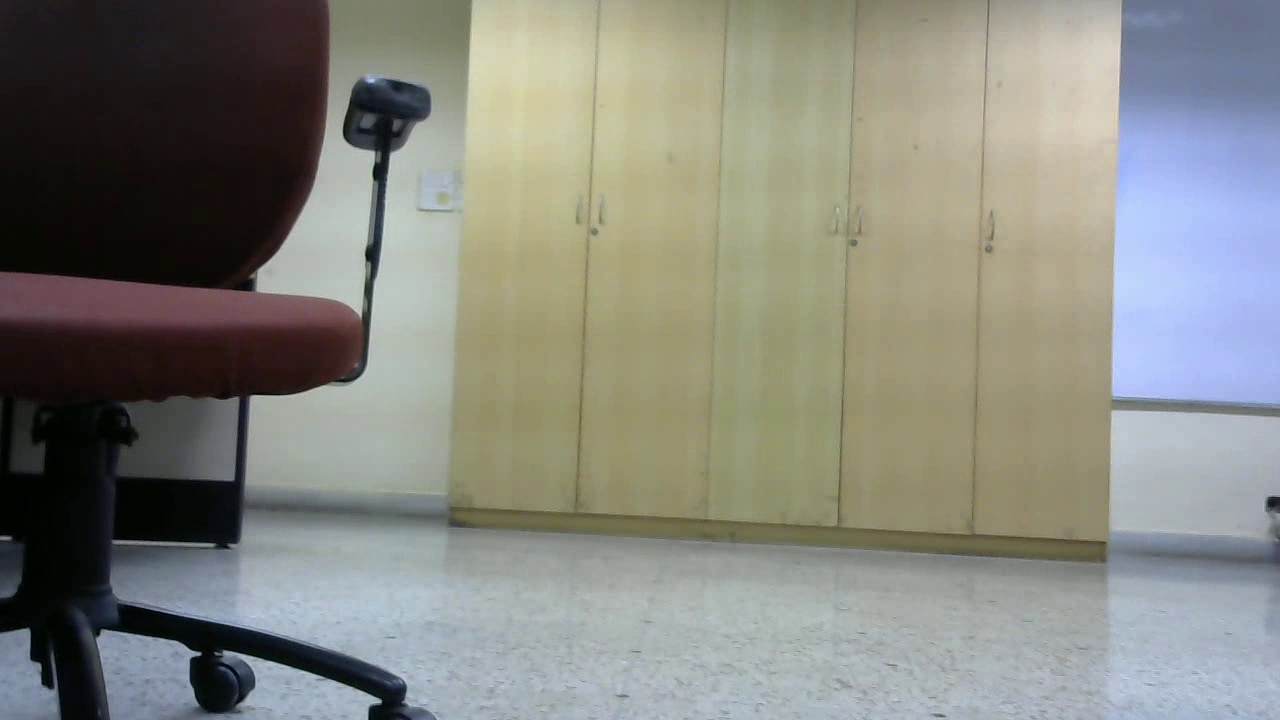chair: (1, 4, 450, 720)
